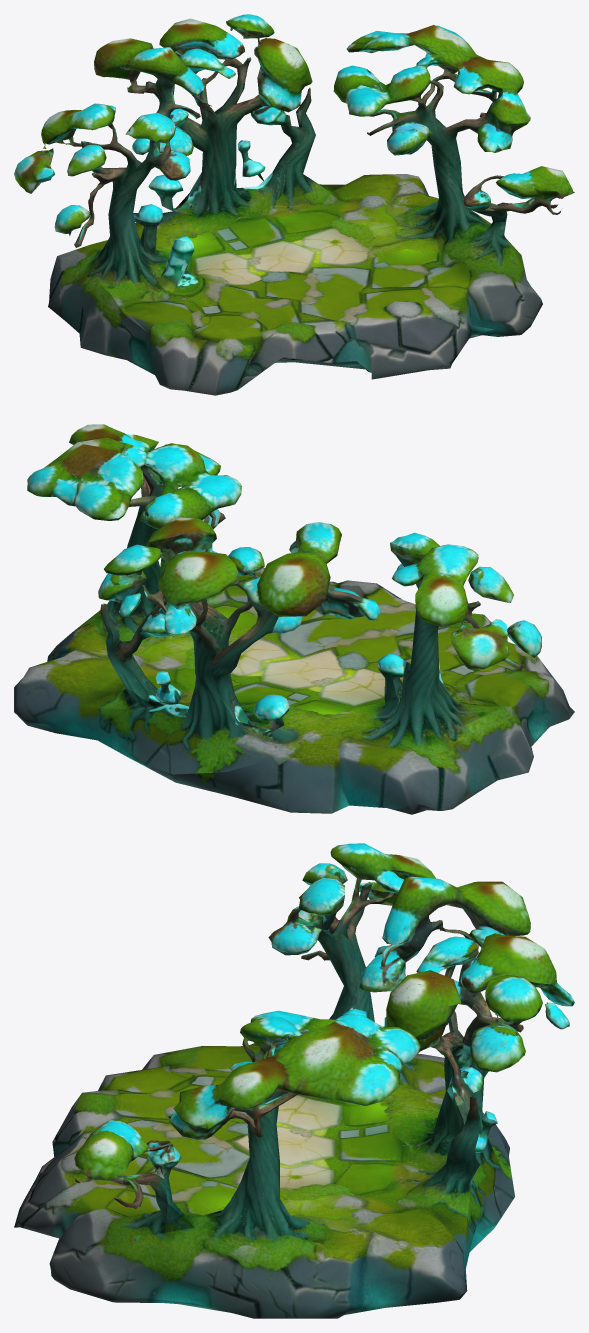
The model's file is Enchanted Grove - LOW (1).glb.
3 renders of one model, top to bottom at view 1: azimuth 30°, elevation 25°; view 2: azimuth 150°, elevation 25°; view 3: azimuth 270°, elevation 25°, orthographic. The views are drawn at different scales.
Parts seen in each view (by area): view 1: Mesh0; view 2: Mesh0; view 3: Mesh0.
Part boxes in pixels (box(x1,y1,x2,y2)): Mesh0: box(14, 14, 574, 395); Mesh0: box(14, 424, 574, 814); Mesh0: box(14, 843, 574, 1318).
Bounding box in the file's own units: 1.98 × 0.9766 × 1.79.
Materials: 1 (1 with a texture image).
